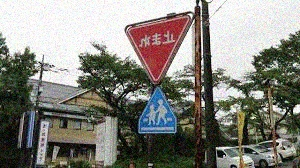Regulatory_sign_triangle: (120, 13, 192, 89)
